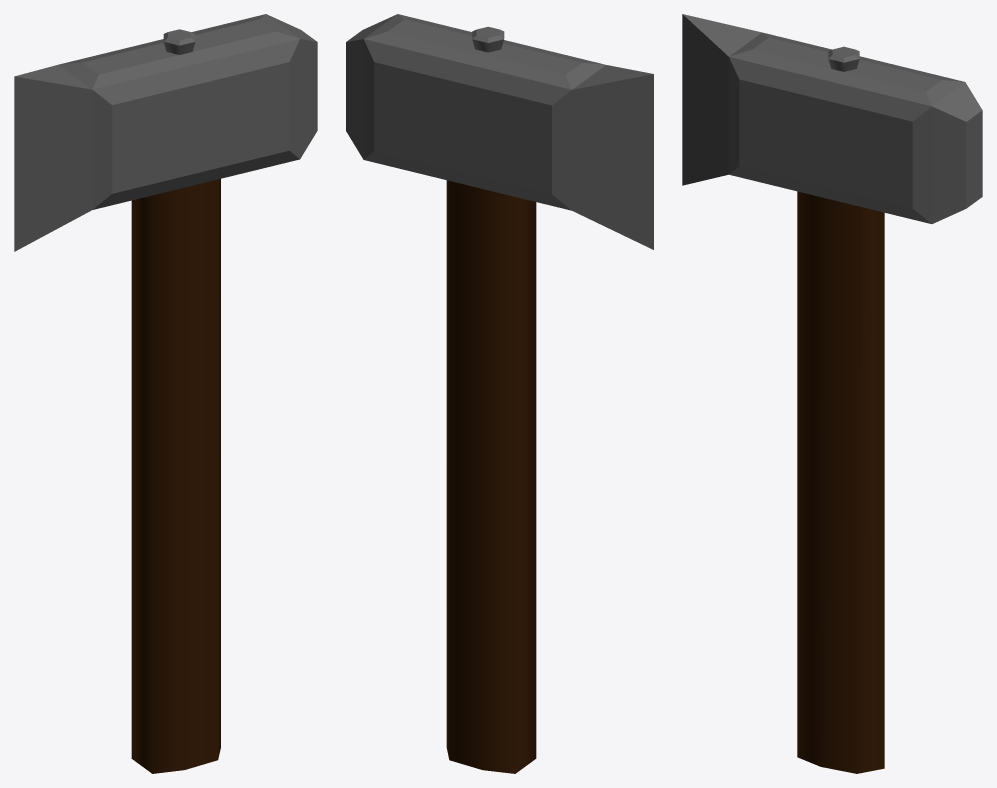
Rendered from axe.FBX.
3 renders of one model, left to right at view 1: azimuth 30°, elevation 25°; view 2: azimuth 150°, elevation 25°; view 3: azimuth 330°, elevation 25°, orthographic. The views are drawn at different scales.
Visible parts, largest first — view 1: Box001; view 2: Box001; view 3: Box001.
Boxes of the visible parts, bbox=[...] form: Box001: bbox=[14, 14, 317, 773]; Box001: bbox=[346, 14, 653, 773]; Box001: bbox=[682, 14, 982, 773].
Bounding box in the file's own units: 50.01 × 116 × 12.65.
